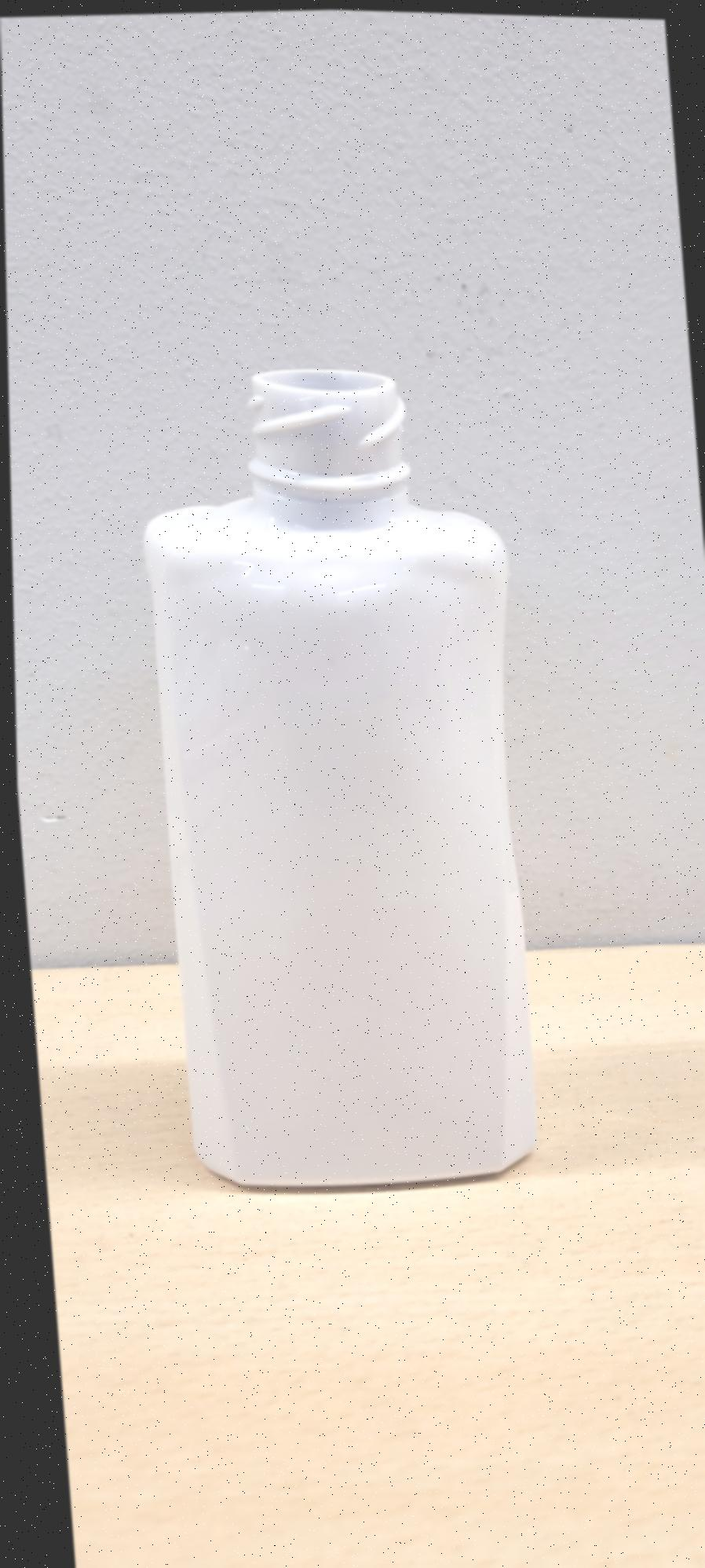bottle: (145, 369, 536, 1186)
